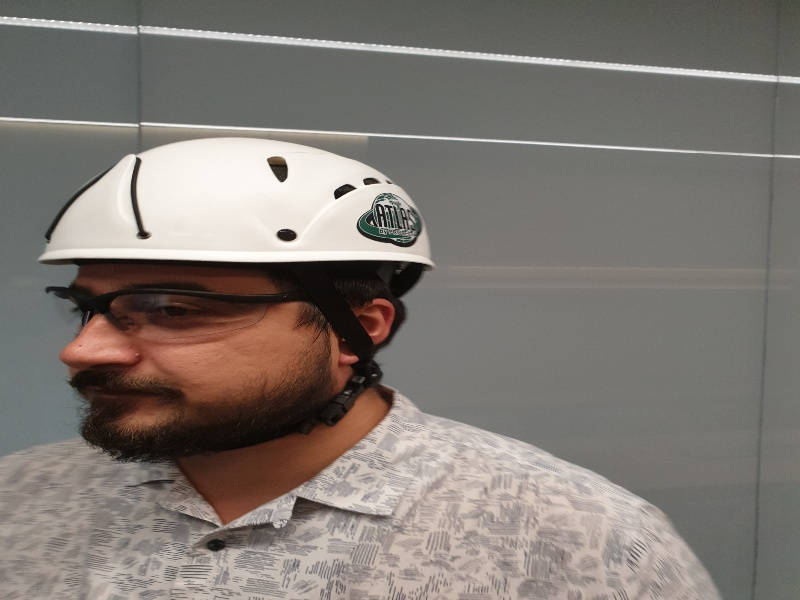Baret: (44, 137, 439, 268)
Gozluk: (47, 284, 314, 341)
